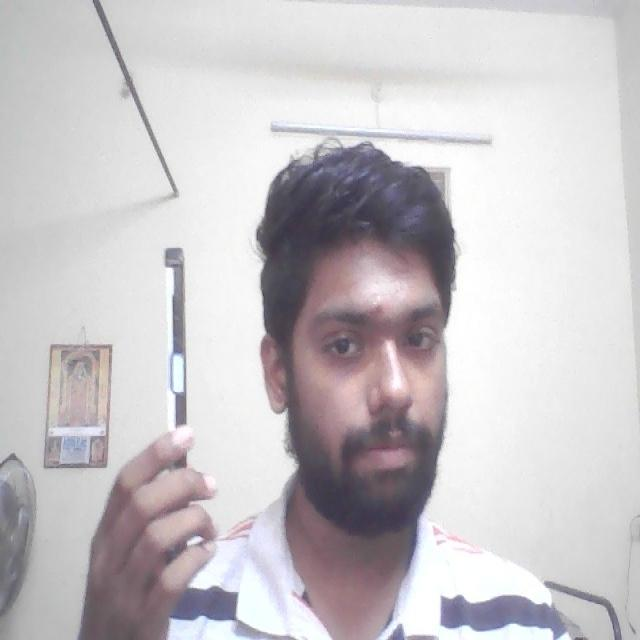Mobile: (158, 238, 193, 472)
